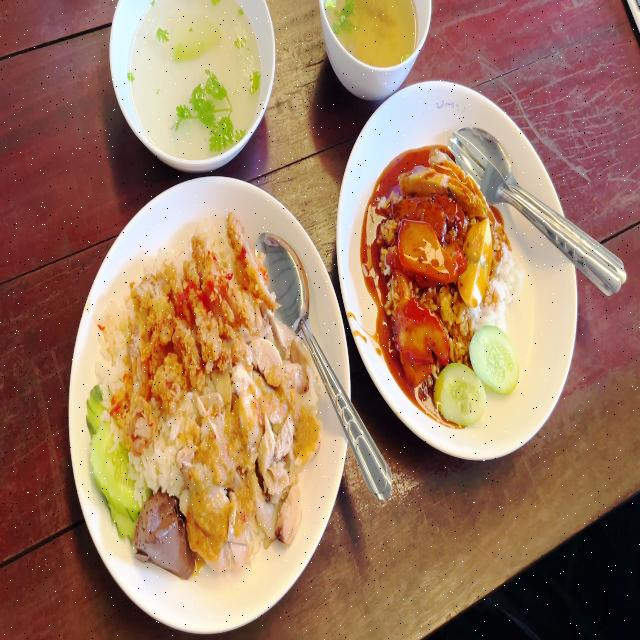boiled_chicken: (179, 321, 316, 564)
boiled_chicken_blood_jelly: (134, 485, 193, 574)
boiled_egg: (459, 214, 496, 307)
chainese_sausage: (401, 182, 467, 235)
chicken_rice: (86, 211, 320, 579)
crispy_pork: (398, 146, 496, 226)
cucumber: (87, 385, 139, 540), (434, 360, 485, 429), (471, 325, 517, 392)
fried_chicken: (116, 216, 273, 438)
red_pork: (391, 297, 446, 382), (397, 214, 461, 286)
red_pork_and_crispy_pork: (378, 147, 515, 424)
